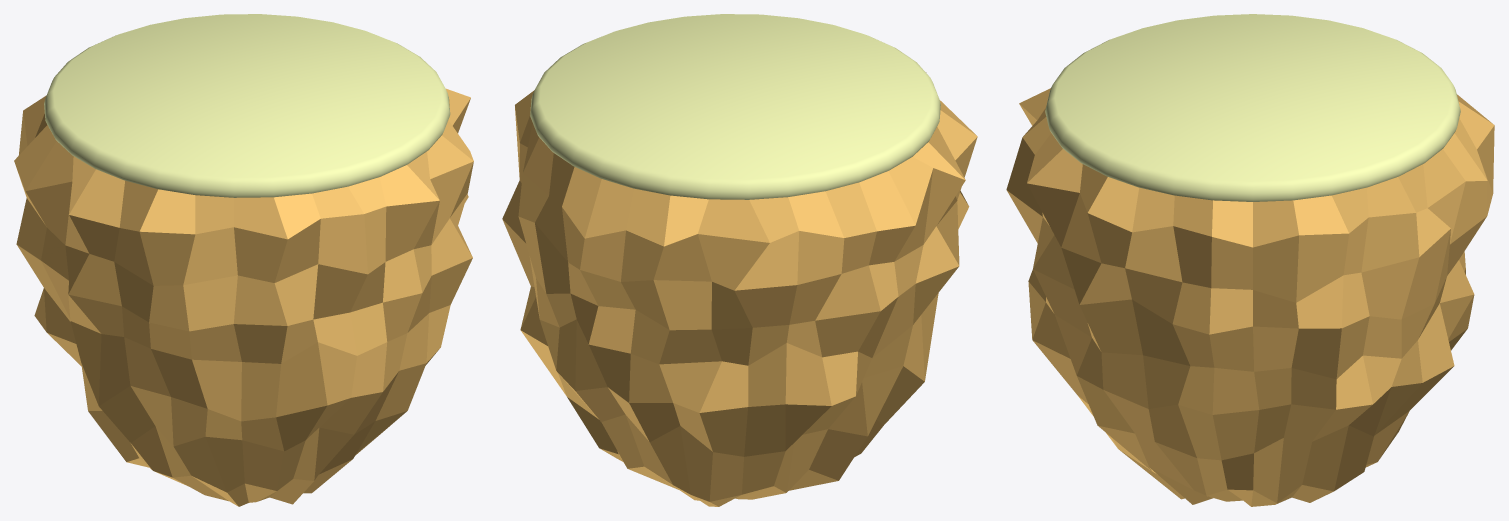
The model's file is island2.fbx.
3 renders of one model, left to right at view 1: azimuth 30°, elevation 25°; view 2: azimuth 150°, elevation 25°; view 3: azimuth 270°, elevation 25°, orthographic. The views are drawn at different scales.
Visible parts, largest first — view 1: island(2); view 2: island(2); view 3: island(2).
Part boxes in pixels (x1,y1,x2,y2): island(2): [14, 14, 473, 506]; island(2): [502, 14, 977, 506]; island(2): [1006, 14, 1494, 506].
Bounding box in the file's own units: 35.51 × 31.92 × 36.15.
1 material, 1 textured.
